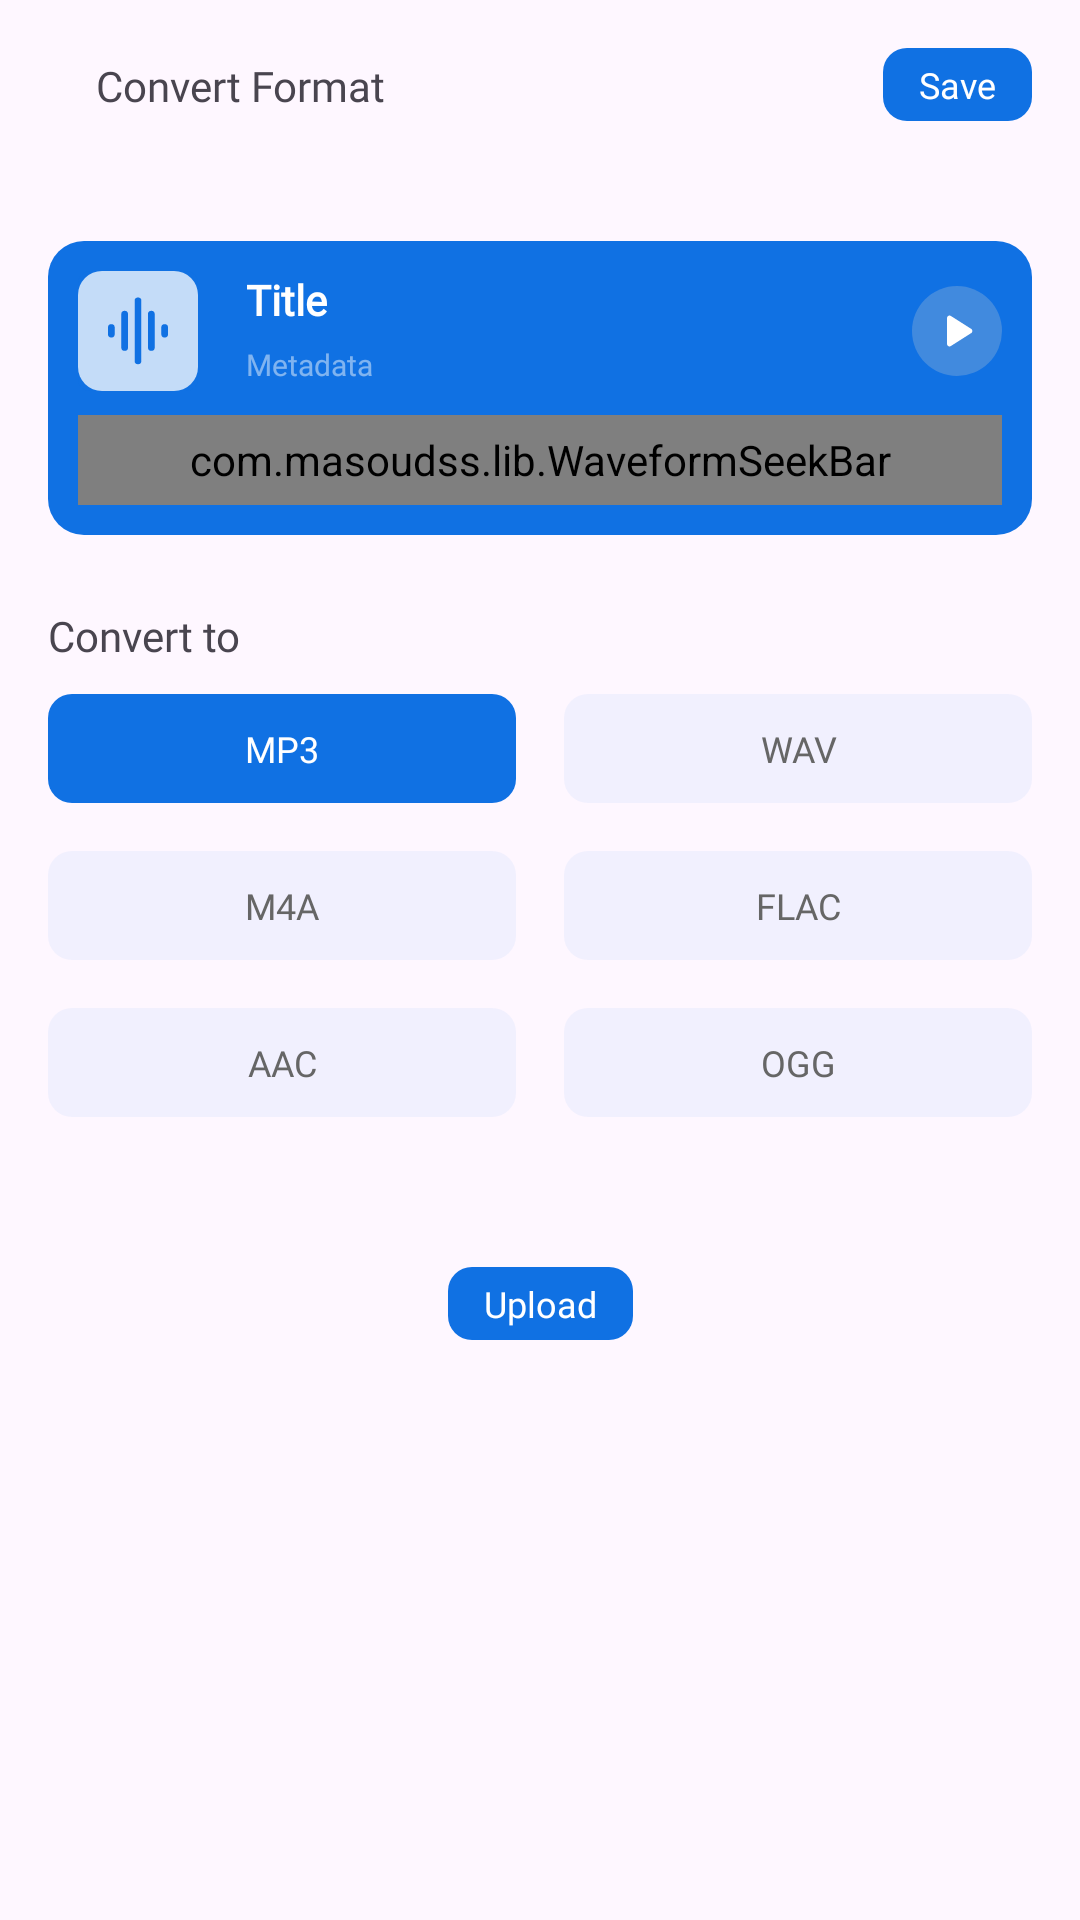

Screen size 1080*1920. Icon name, then its center in pixels as [x,y]:
play: [957,331]
